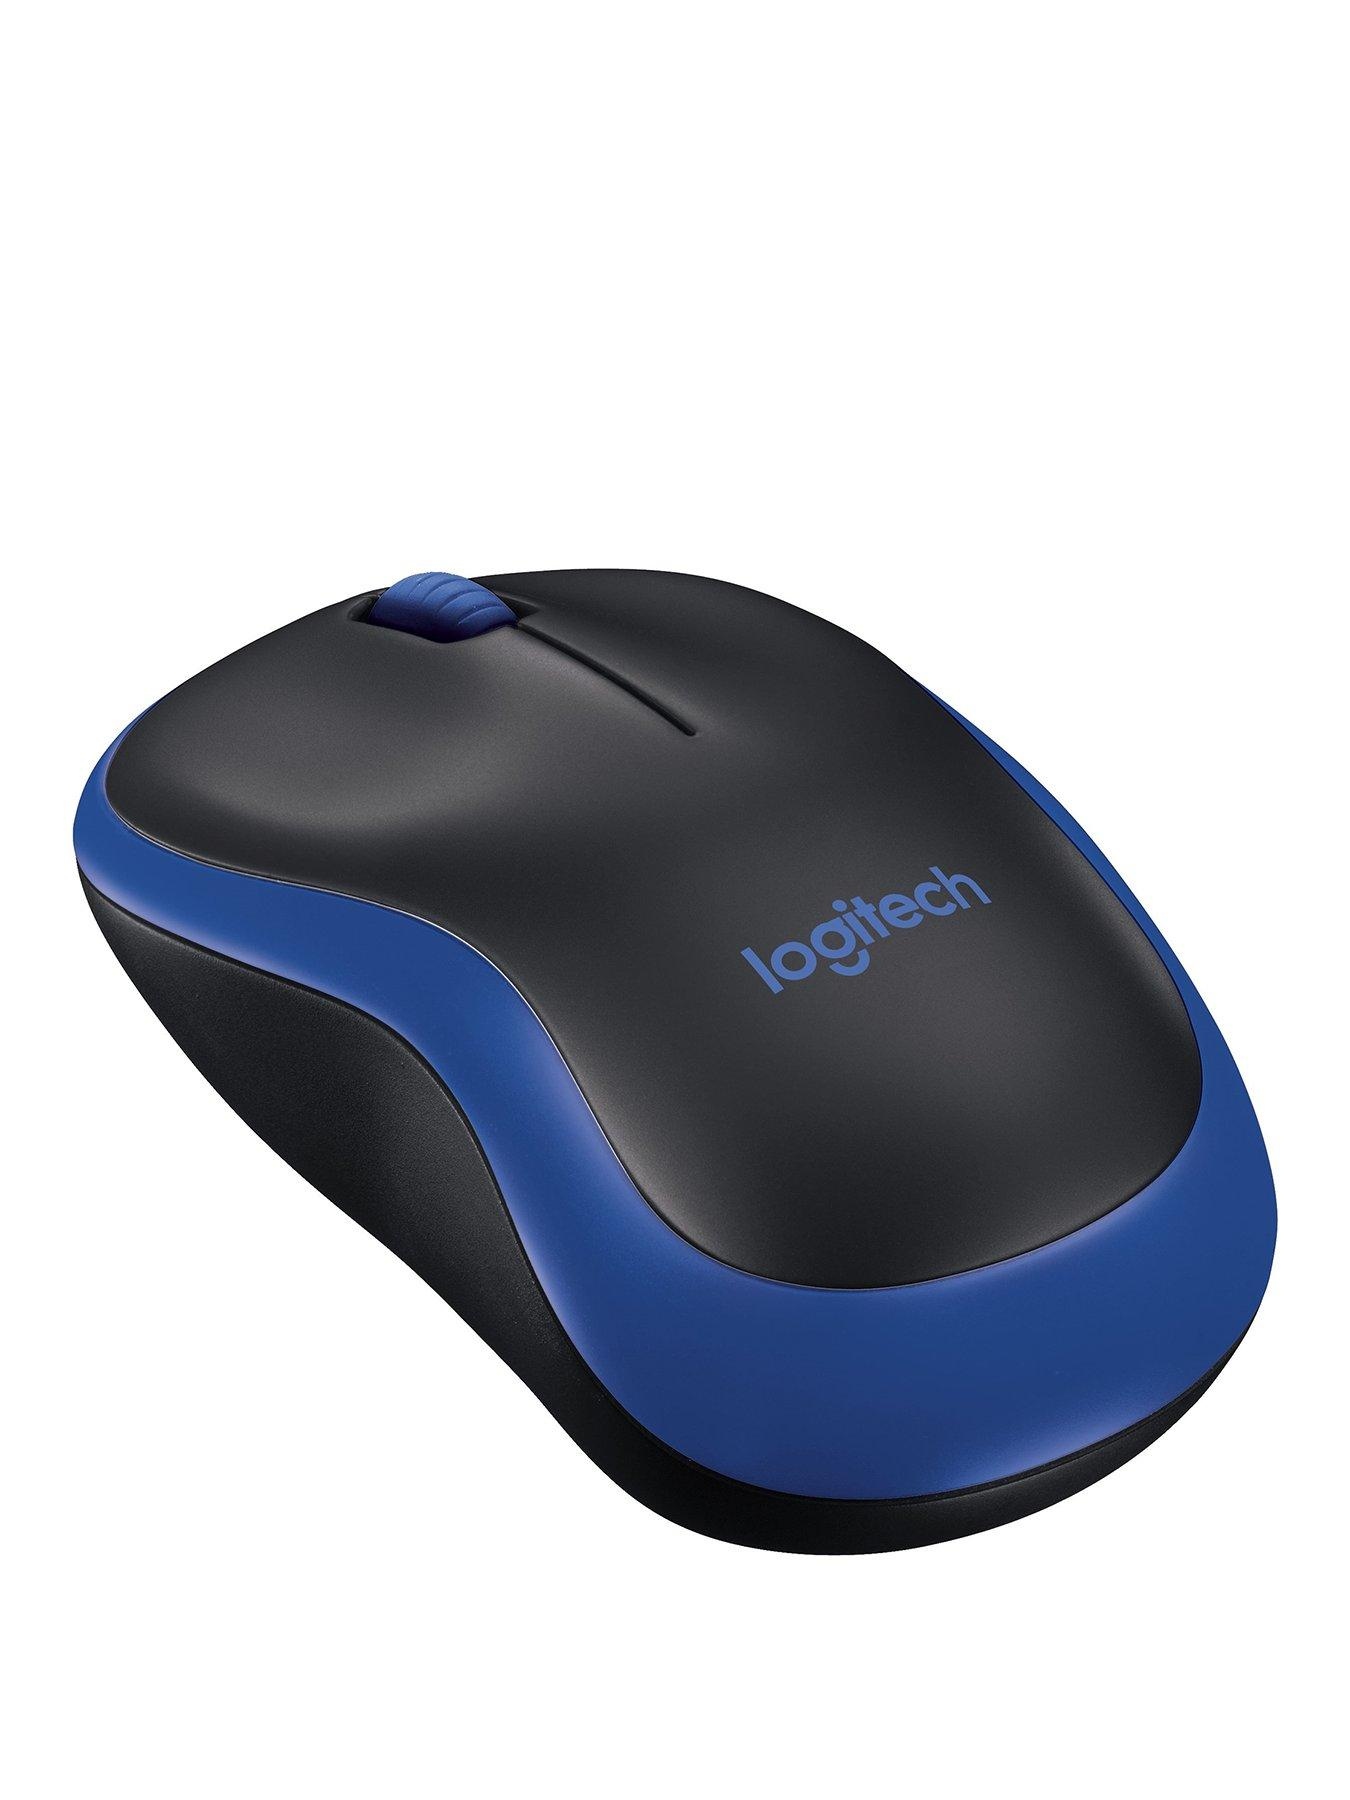logitech-mouse-m185: (87, 549, 1286, 1549)
